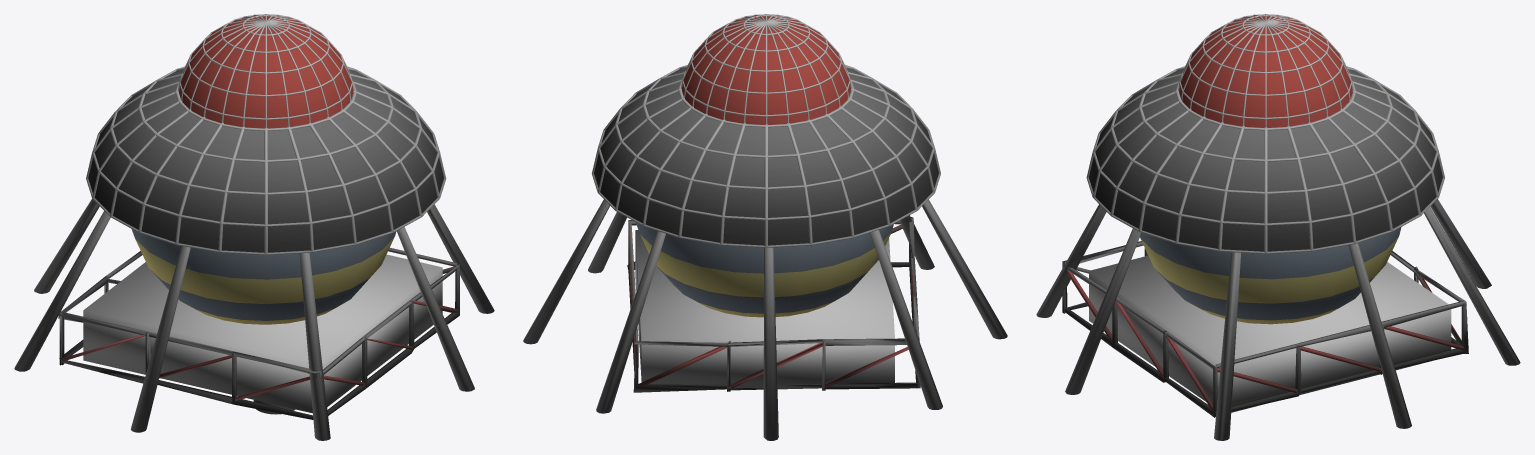
The model's file is GameJam_podStationTextured.fbx.
3 renders of one model, left to right at view 1: azimuth 30°, elevation 25°; view 2: azimuth 150°, elevation 25°; view 3: azimuth 270°, elevation 25°, orthographic. The views are drawn at different scales.
Parts seen in each view (by area): view 1: grid_Dak; view 2: grid_Dak; view 3: grid_Dak.
Boxes of the visible parts, bbox=[...] form: grid_Dak: bbox=[14, 14, 494, 440]; grid_Dak: bbox=[523, 14, 1007, 440]; grid_Dak: bbox=[1036, 14, 1520, 440].
Size of the model in its own units: 21.76 by 18.48 by 21.76.
2 materials, 1 textured.
